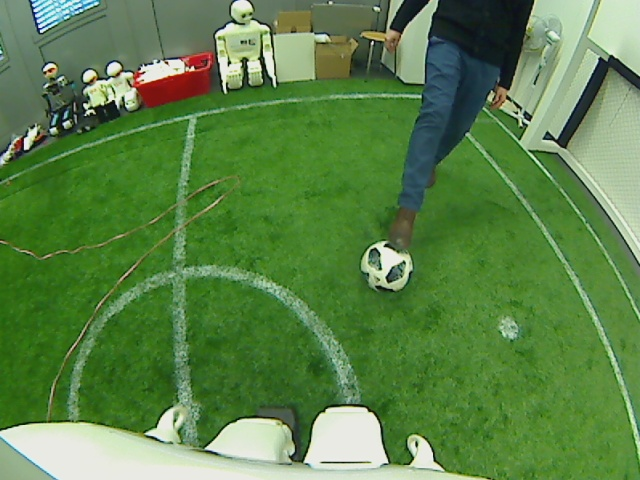ball: (359, 241, 412, 291)
